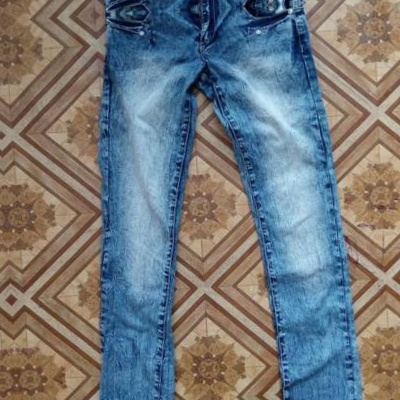Pants: (60, 4, 379, 400), (36, 0, 355, 12), (84, 392, 400, 400)
